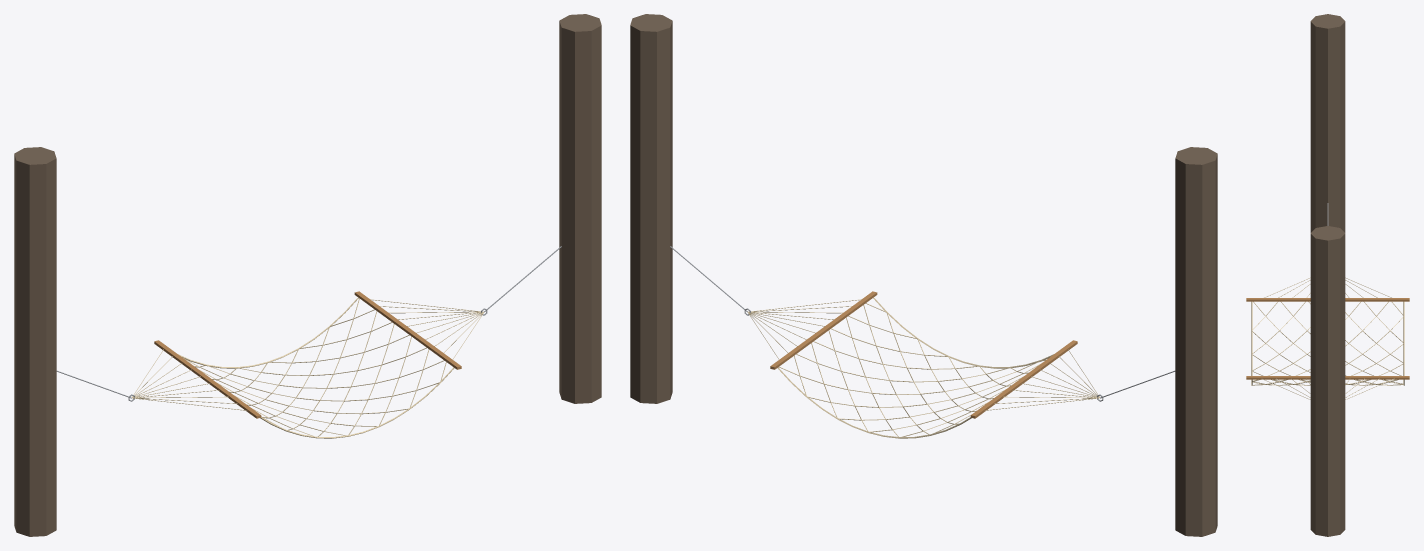
The model's file is hammock_spreader_rope.mid.glb.
The picture shows the model from 3 angles, left to right: view 1: azimuth 30°, elevation 25°; view 2: azimuth 150°, elevation 25°; view 3: azimuth 270°, elevation 25°; orthographic projection. The views are drawn at different scales.
Visible parts, largest first — view 1: hammock_spreader_rope, bed_hammock_spreader_rope; view 2: hammock_spreader_rope, bed_hammock_spreader_rope; view 3: hammock_spreader_rope, bed_hammock_spreader_rope.
Part boxes in pixels (box(x1,y1,x2,y2)): hammock_spreader_rope: box(14, 14, 601, 536); bed_hammock_spreader_rope: box(56, 246, 561, 438); hammock_spreader_rope: box(630, 14, 1217, 536); bed_hammock_spreader_rope: box(670, 246, 1175, 438); hammock_spreader_rope: box(1310, 14, 1345, 536); bed_hammock_spreader_rope: box(1246, 203, 1409, 399).
Size of the model in its own units: 4.92 by 3 by 1.5.
